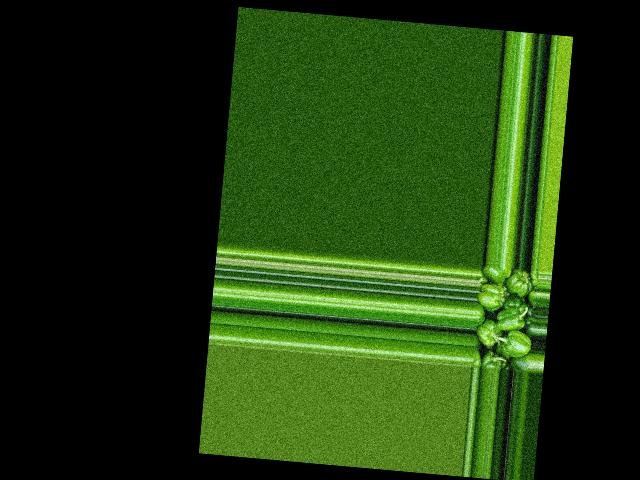bell_pepper: (510, 348, 531, 373)
